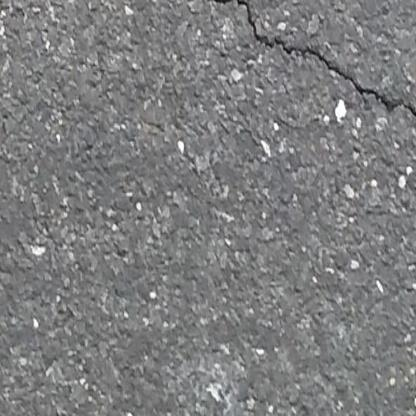Cracks: (190, 0, 416, 151)
